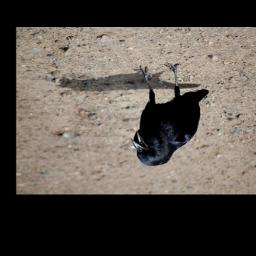Crow: (130, 63, 209, 166)
